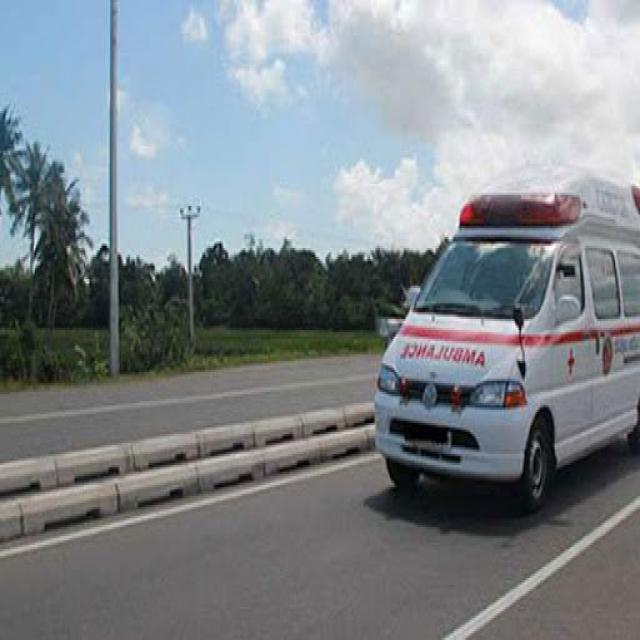emergency-vehicle: (362, 162, 640, 506)
